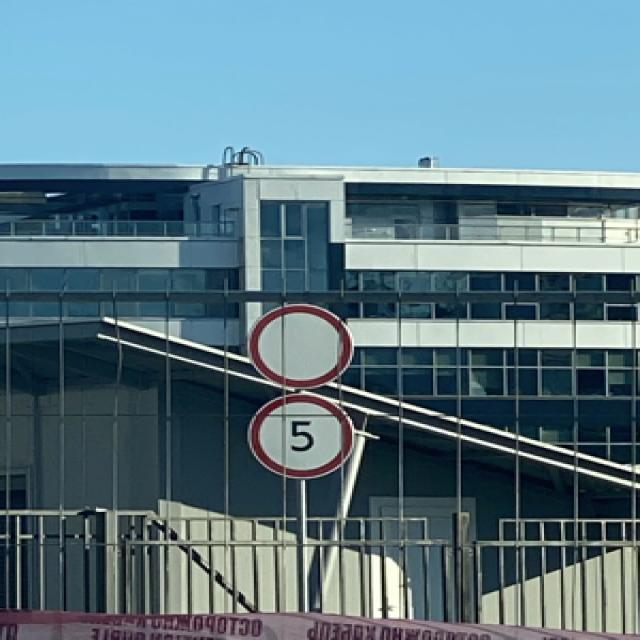speedlimit: (245, 392, 352, 477)
